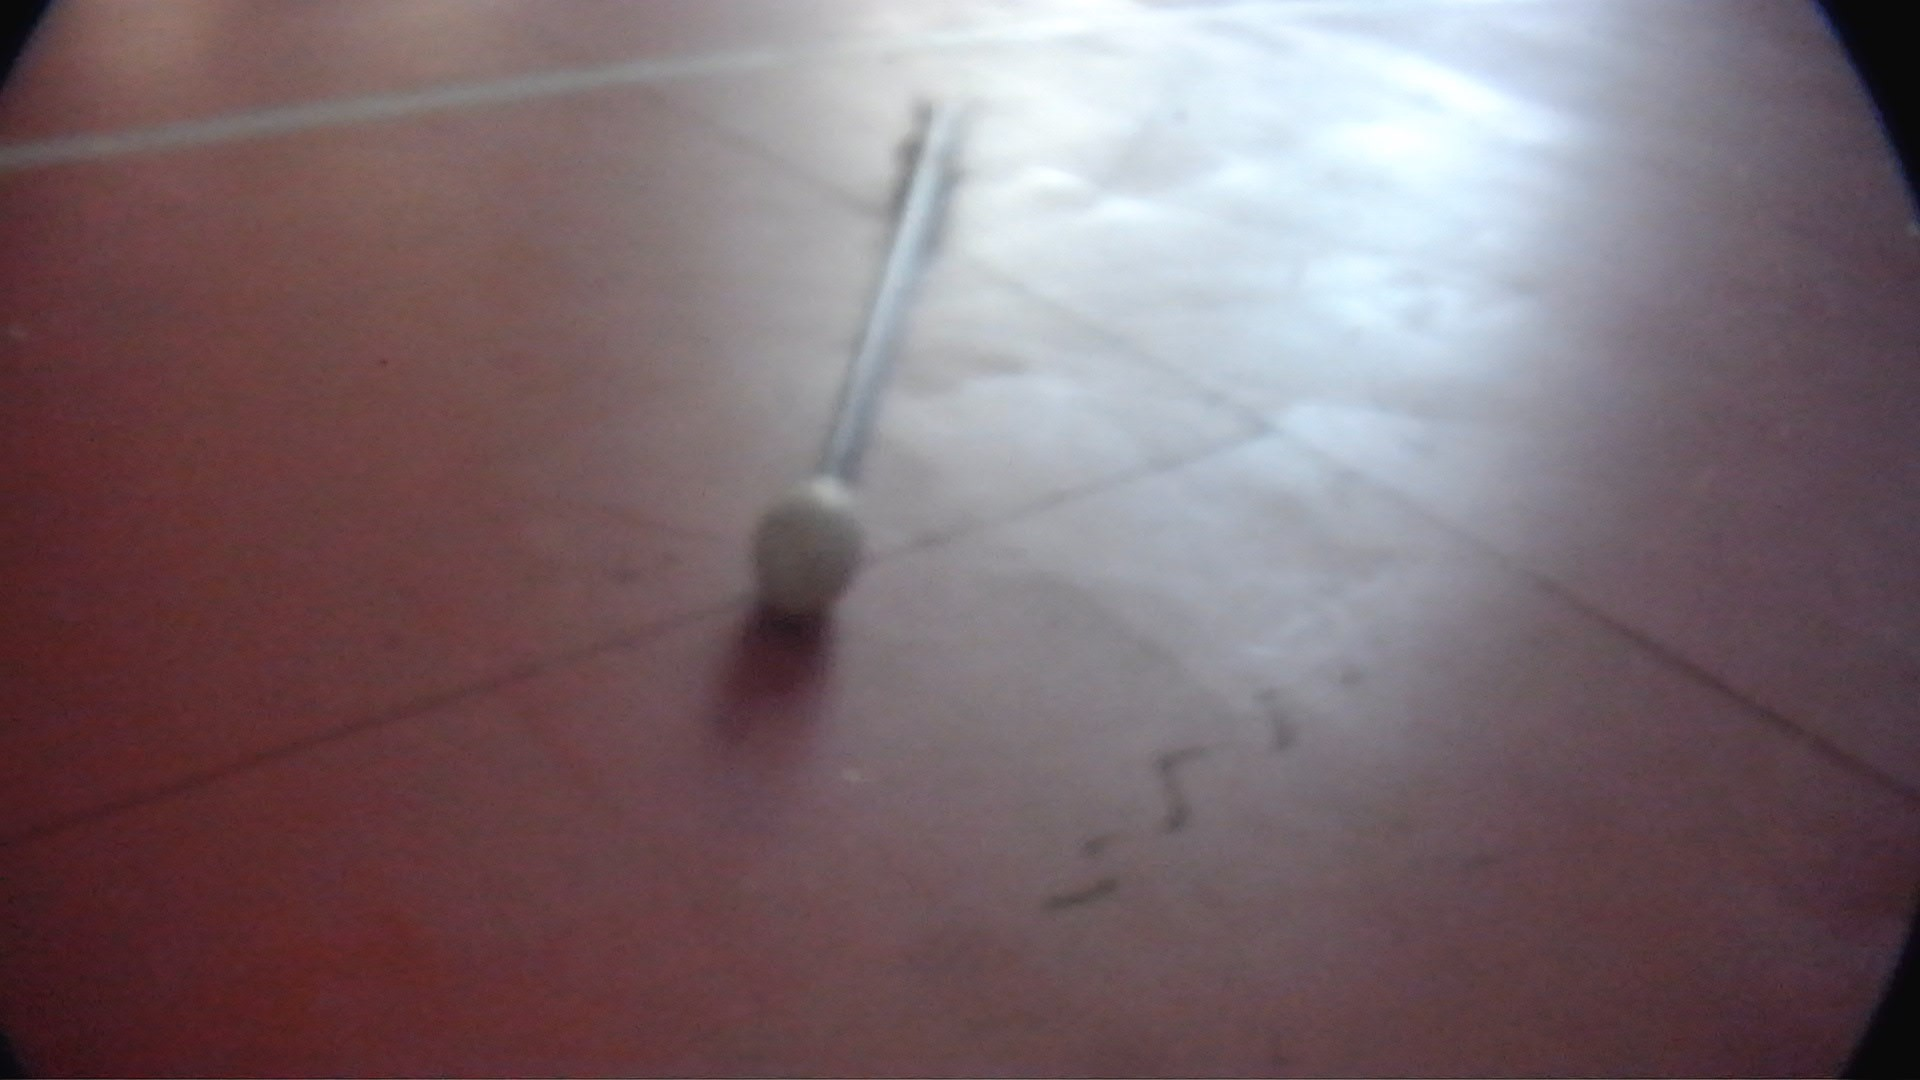arrow: (748, 83, 976, 609)
arrowFront: (748, 475, 864, 615)
